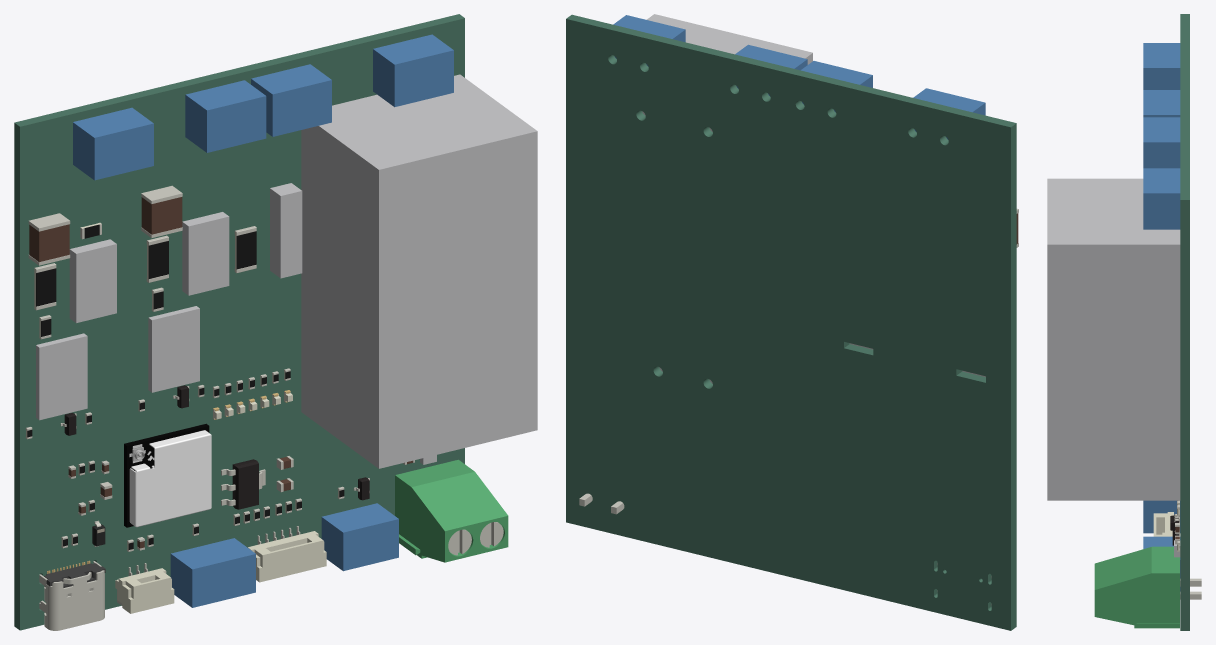
Rendered from board.glb.
3 views of the same model, side by side, from view 1: azimuth 30°, elevation 25°; view 2: azimuth 150°, elevation 25°; view 3: azimuth 270°, elevation 25° (orthographic). The views are drawn at different scales.
Parts seen in each view (by area): view 1: =>[0:1:1:34], PS1, =>[0:1:1:23]_cf0030, =>[0:1:1:31]_a6e70c, J14, J15, J12, J10, J13, J2, U9, U8 (+14 smaller); view 2: =>[0:1:1:34], PS1, J15, J12, J14, J13; view 3: PS1, =>[0:1:1:23]_cf0030, =>[0:1:1:34], J12, J13, J15, J14, J10, =>[0:1:1:21]_a3d6f5, J2.
Part boxes in pixels (x1,y1,x2,y2): =>[0:1:1:34]: (14,14,464,630); PS1: (301,74,537,468); =>[0:1:1:23]_cf0030: (395,459,508,562); =>[0:1:1:31]_a6e70c: (129,430,211,527); J14: (185,80,266,152); J15: (73,107,153,180); J12: (373,34,453,107); J10: (170,538,255,607); J13: (251,64,331,136); J2: (321,503,398,571); U9: (36,333,87,420); U8: (148,306,199,392); =>[0:1:1:34]: (566,14,1016,630); PS1: (642,14,812,383); J15: (913,88,985,139); J12: (613,15,685,66); J14: (801,61,872,112); J13: (735,44,807,96); PS1: (1047,178,1180,500); =>[0:1:1:23]_cf0030: (1094,546,1179,628); =>[0:1:1:34]: (1180,14,1189,630); J12: (1143,168,1180,229); J13: (1143,117,1180,168); J15: (1143,43,1180,89); J14: (1143,90,1180,117); J10: (1143,500,1180,533); =>[0:1:1:21]_a3d6f5: (1153,512,1173,536); J2: (1143,536,1180,591).
Bounding box in the file's own units: 71.2 × 77 × 24.95.
